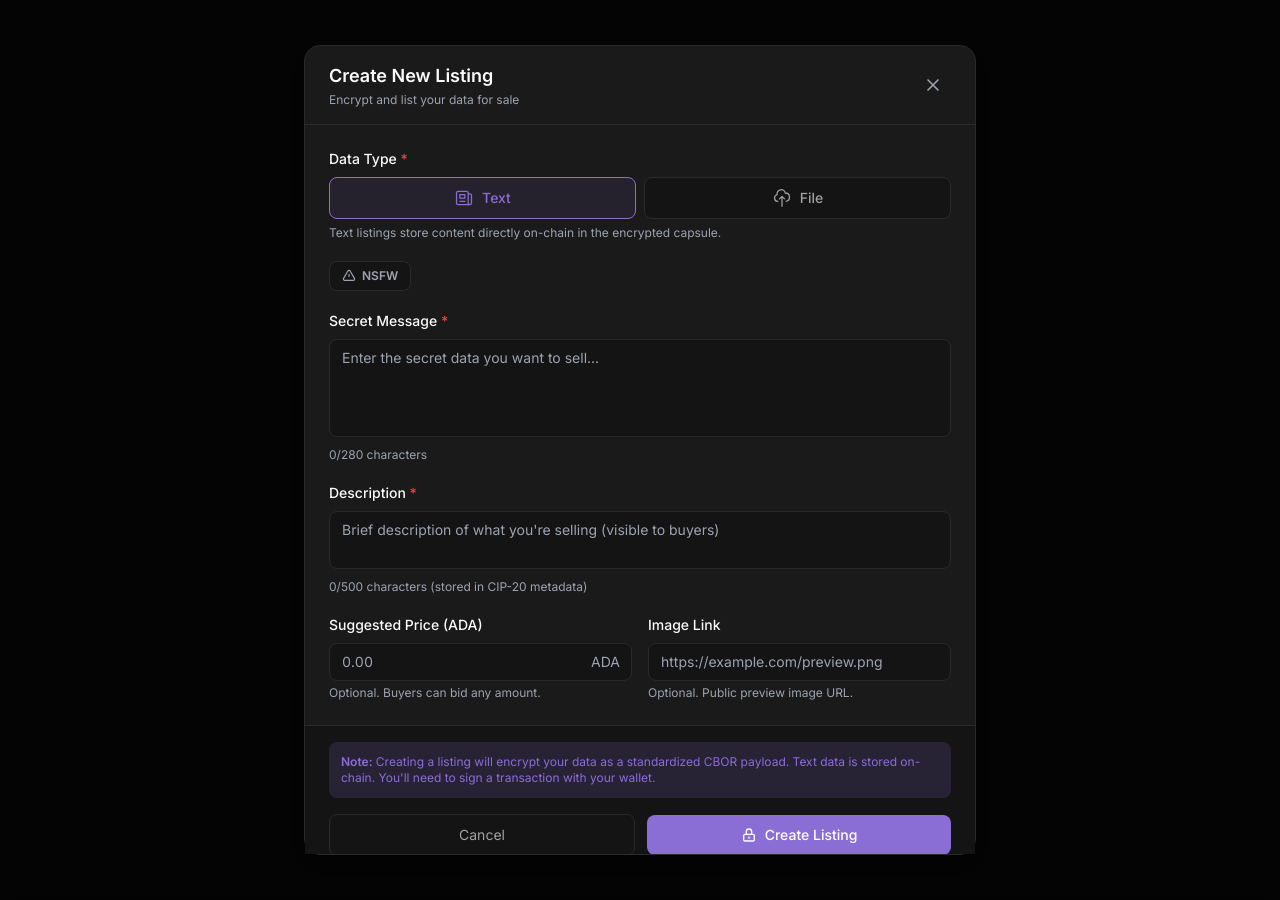
Scenario: CreateListingModal › validates empty secret message on submit
// Fill description so only secretMessage fails
Step 1. Type "Test desc" into the text box labelled "Description *" → [640, 540], box x1=329 y1=511 x2=951 y2=569
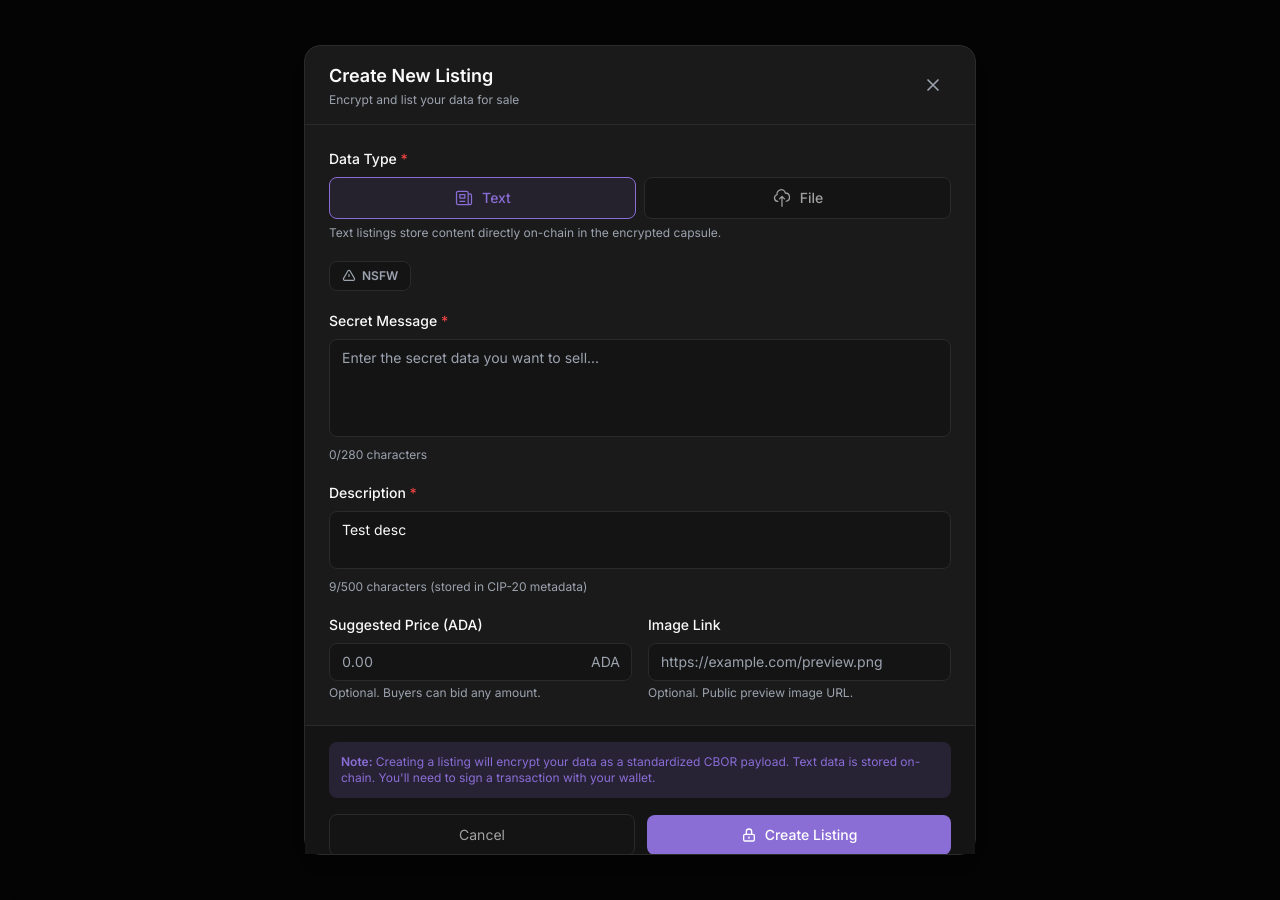
Step 2. Click the button "Create Listing" → [799, 835], box x1=647 y1=815 x2=951 y2=855
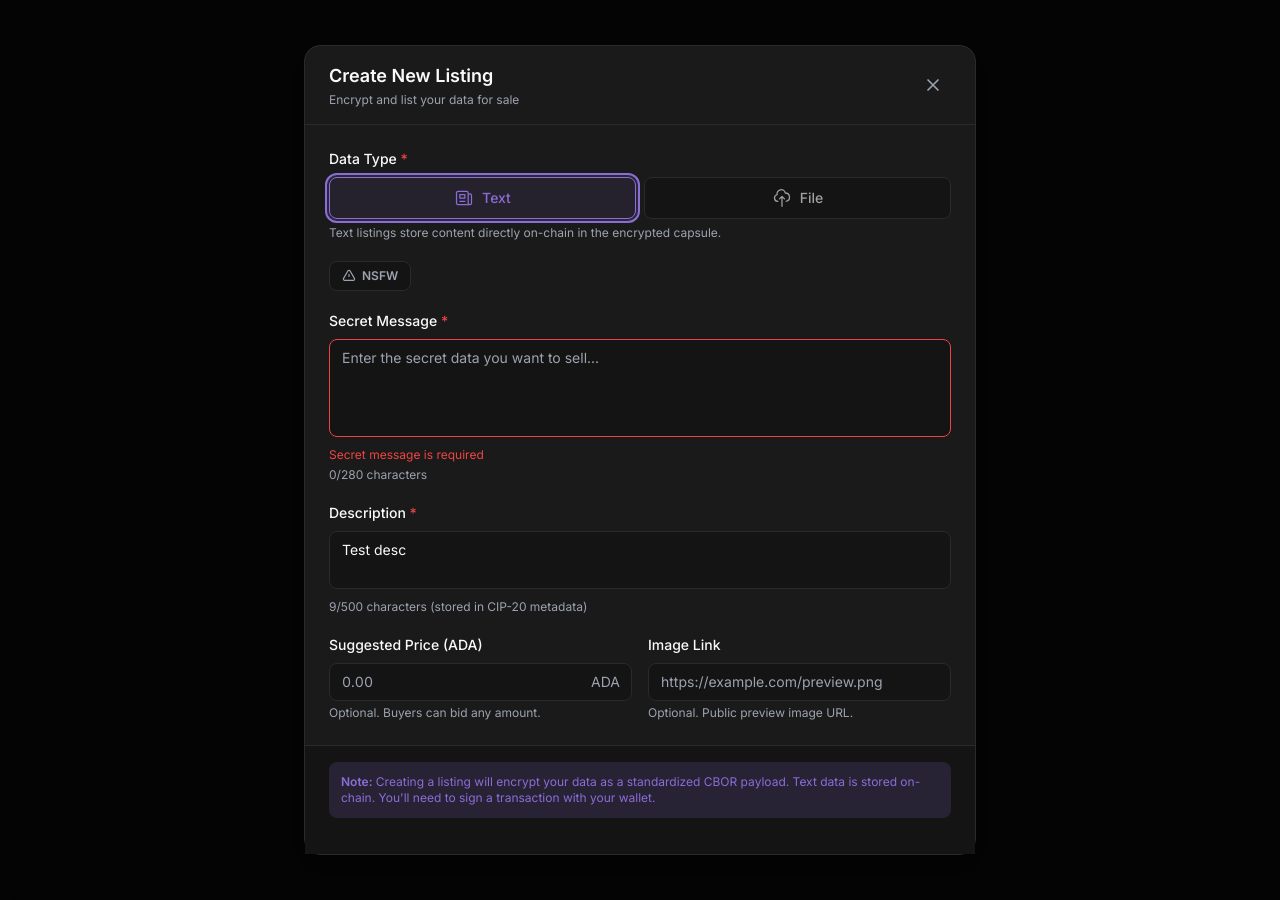
Now the text "Secret message is required" is shown, box x1=329 y1=447 x2=484 y2=462
